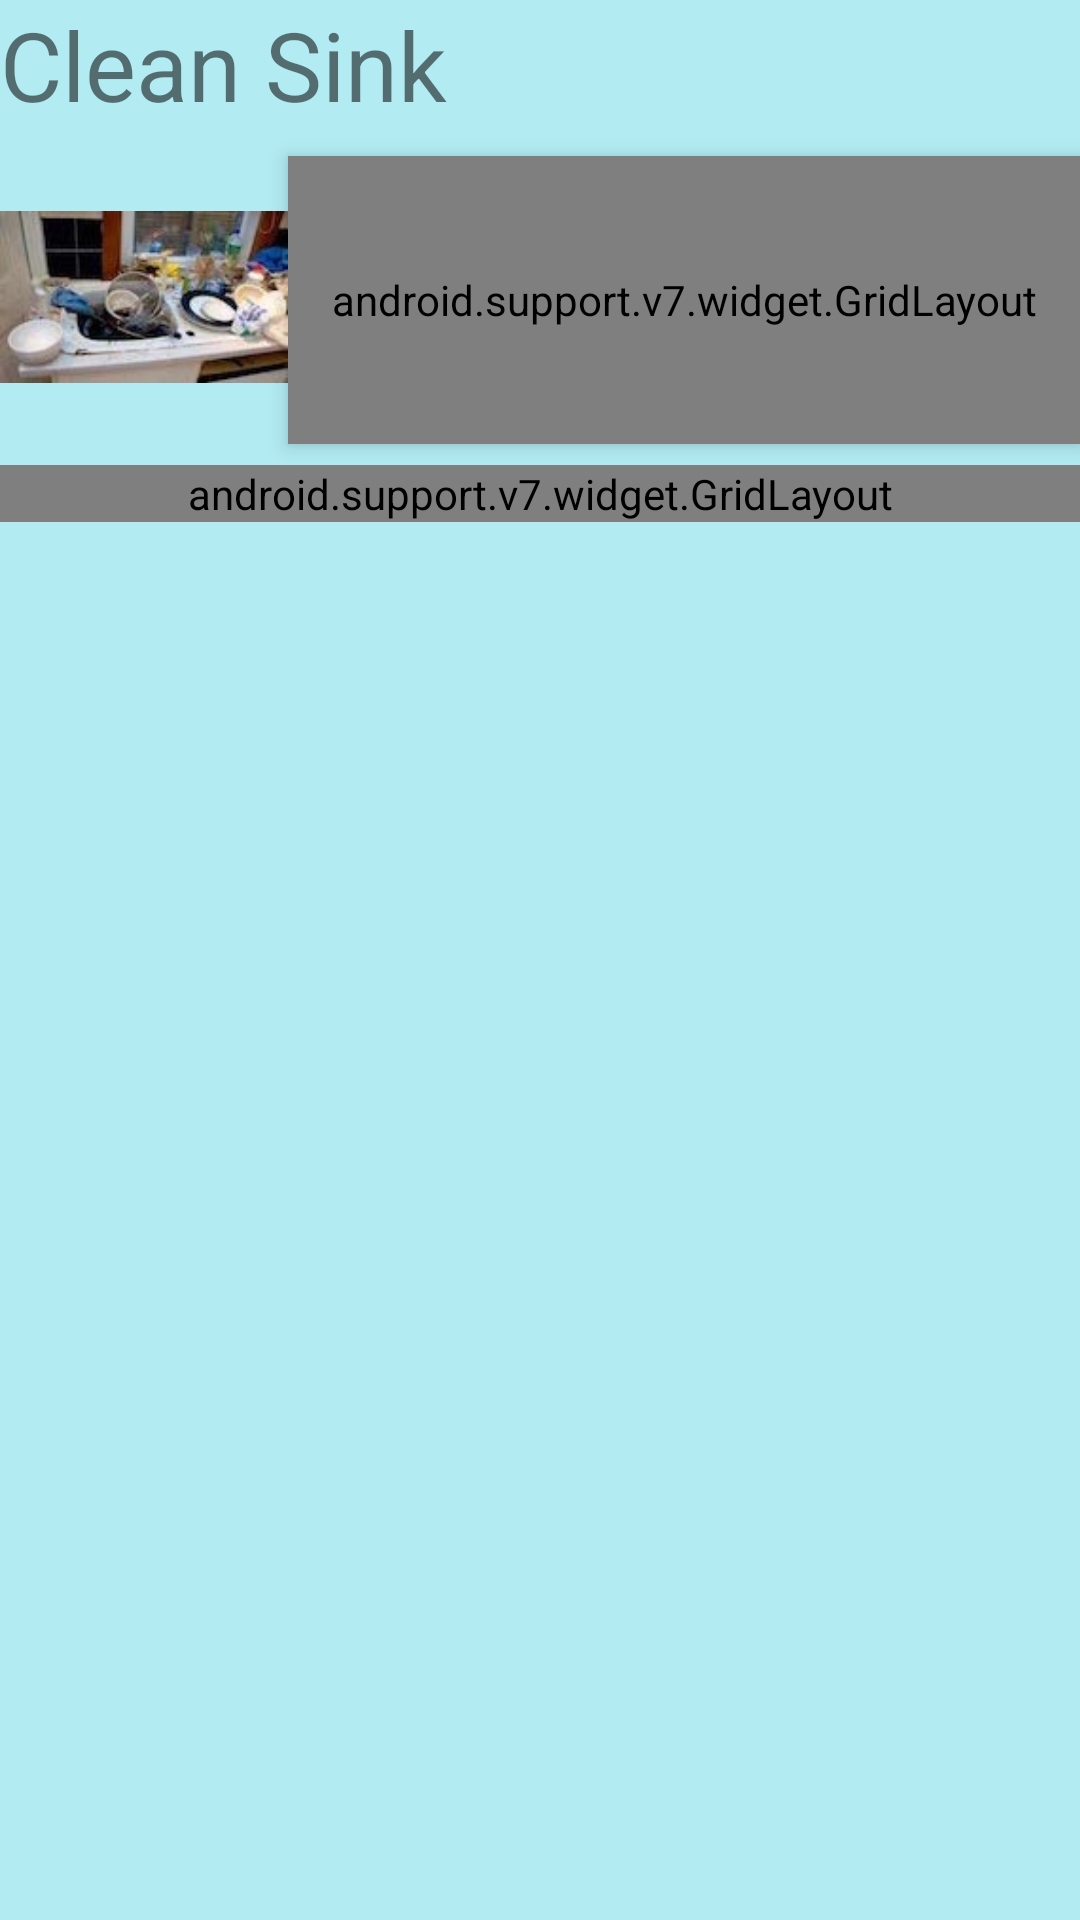

Icon click points for this 1080x1920 phone screenshot, format [x,y]:
Chore Picture: [144,303]
